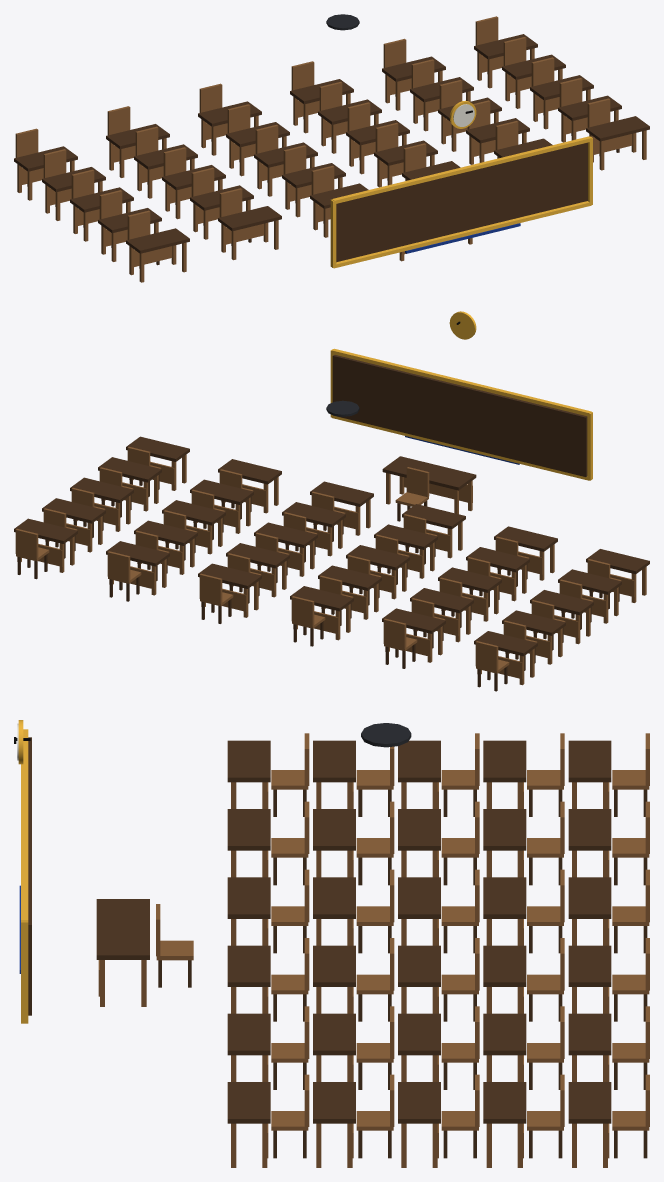
File: SM_Interior_academy_classroom_Props.fbx
3 renders of one model, top to bottom at view 1: azimuth 30°, elevation 25°; view 2: azimuth 150°, elevation 25°; view 3: azimuth 270°, elevation 25°, orthographic. The views are drawn at different scales.
Visible parts, largest first — view 1: SM_Interior_academy_classroom_Props; view 2: SM_Interior_academy_classroom_Props; view 3: SM_Interior_academy_classroom_Props.
Part boxes in pixels (left/top/right/bottom): SM_Interior_academy_classroom_Props: left=14, top=14, right=649, bottom=282; SM_Interior_academy_classroom_Props: left=14, top=311, right=649, bottom=691; SM_Interior_academy_classroom_Props: left=14, top=720, right=649, bottom=1167.
Bounding box in the file's own units: 12.08 × 3.85 × 8.58.
